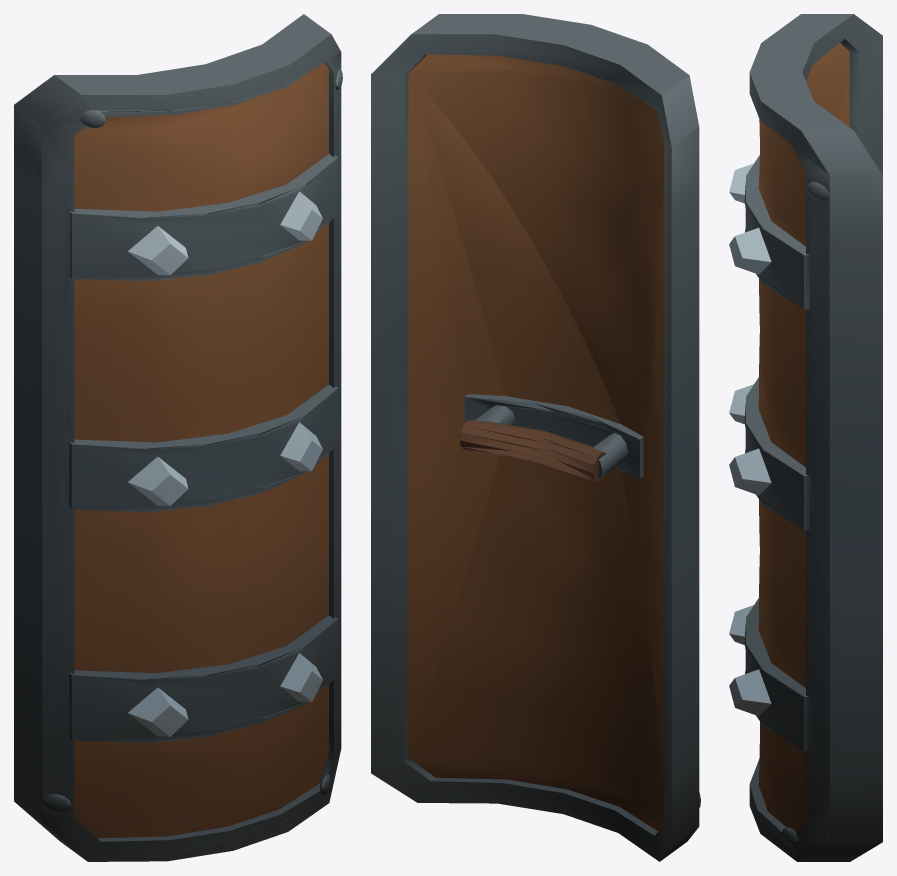
File: shield_iron_tower.glb
3 views of the same model, side by side, from view 1: azimuth 30°, elevation 25°; view 2: azimuth 150°, elevation 25°; view 3: azimuth 270°, elevation 25° (orthographic). The views are drawn at different scales.
Visible parts, largest first — view 1: Item; view 2: Item; view 3: Item.
Part boxes in pixels (x1=…): Item: x1=14, y1=14, x2=342, y2=861; Item: x1=371, y1=14, x2=700, y2=861; Item: x1=729, y1=14, x2=882, y2=861.
Bounding box in the file's own units: 0.72 × 1.76 × 0.3344.
Materials: 2 (2 with a texture image).
